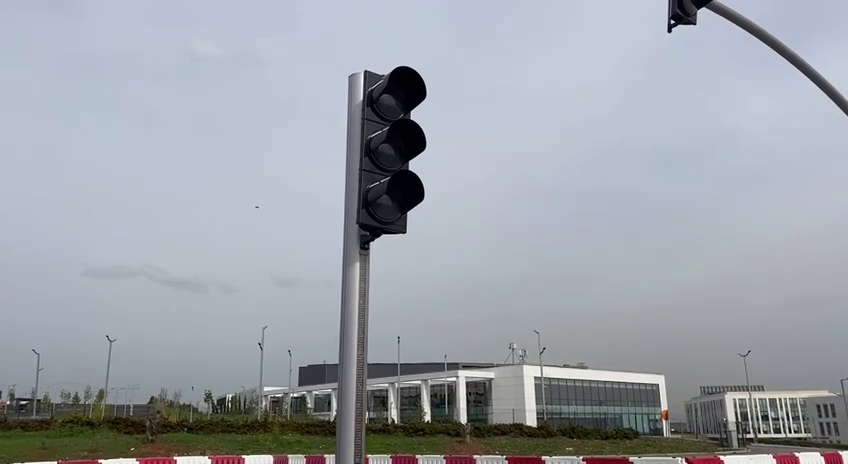trafficLight: (341, 62, 430, 243), (665, 1, 717, 35)
